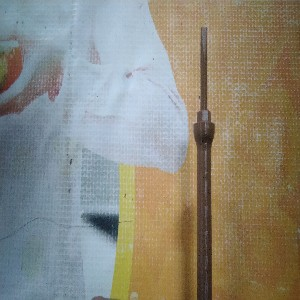obeng: (192, 26, 216, 300)
